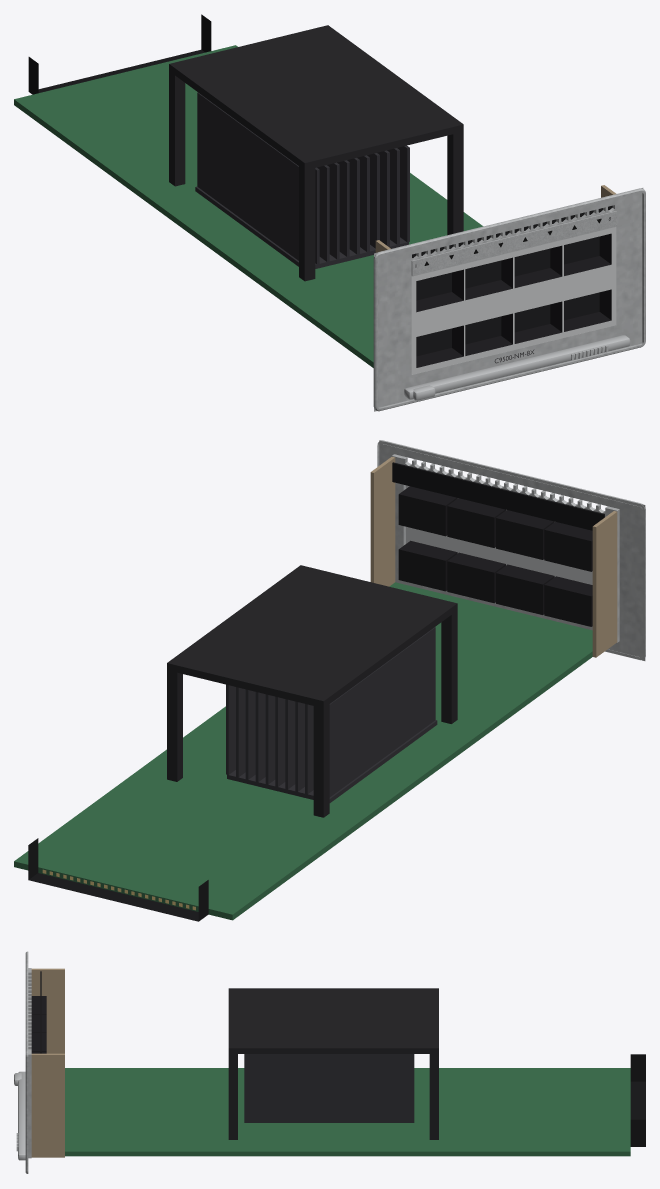
File: C9500-NM-8X.far.glb
3 renders of one model, top to bottom at view 1: azimuth 30°, elevation 25°; view 2: azimuth 150°, elevation 25°; view 3: azimuth 270°, elevation 25°, orthographic. The views are drawn at different scales.
Visible parts, largest first — view 1: Body_far; view 2: Body_far; view 3: Body_far.
Part boxes in pixels (box(x1,y1,x2,y2)): Body_far: box(14, 14, 645, 411); Body_far: box(14, 440, 645, 921); Body_far: box(14, 951, 645, 1173).
Size of the model in its own units: 0.0785 by 0.0438 by 0.2045.
Materials: 3 (2 with a texture image).
